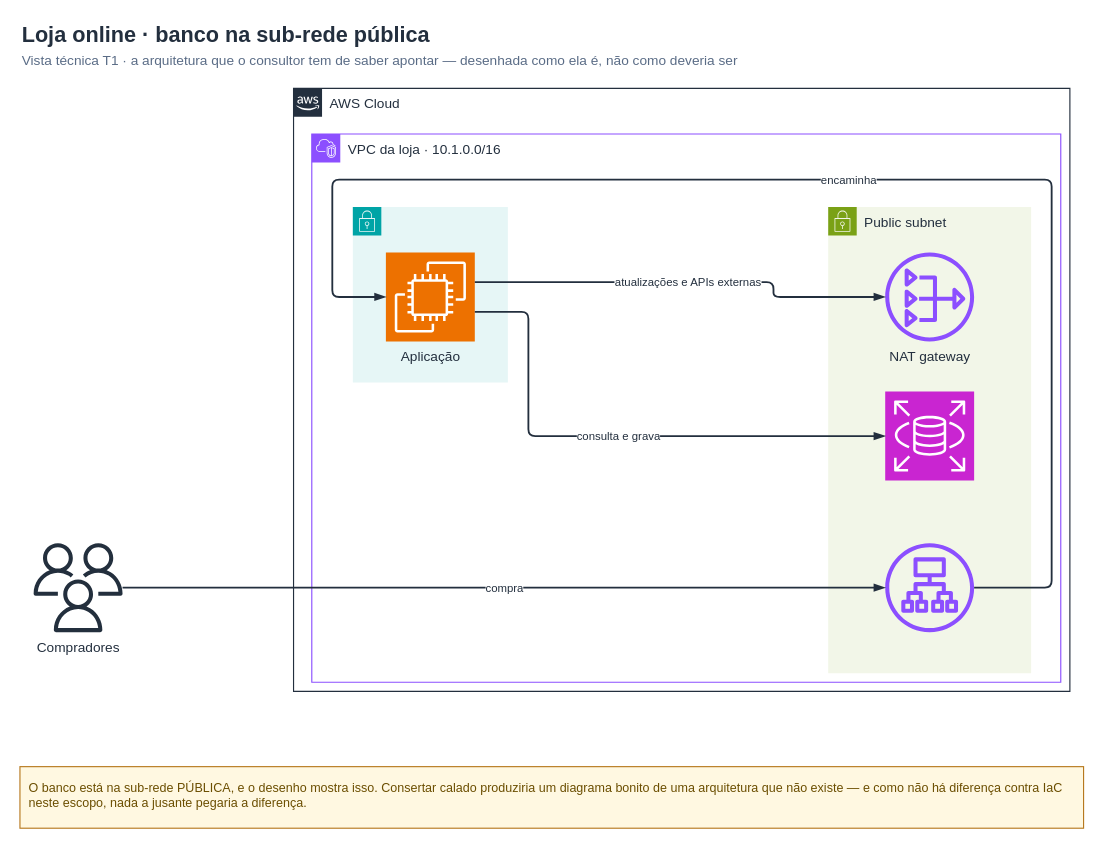
Image size: 1104x848. Some labels were removed from this diagram. Each missing label, with the box of its shape:
ALB: (885, 543, 974, 632)
App subnet: (352, 206, 508, 382)
Catálogo e pedidos: (884, 390, 974, 481)
